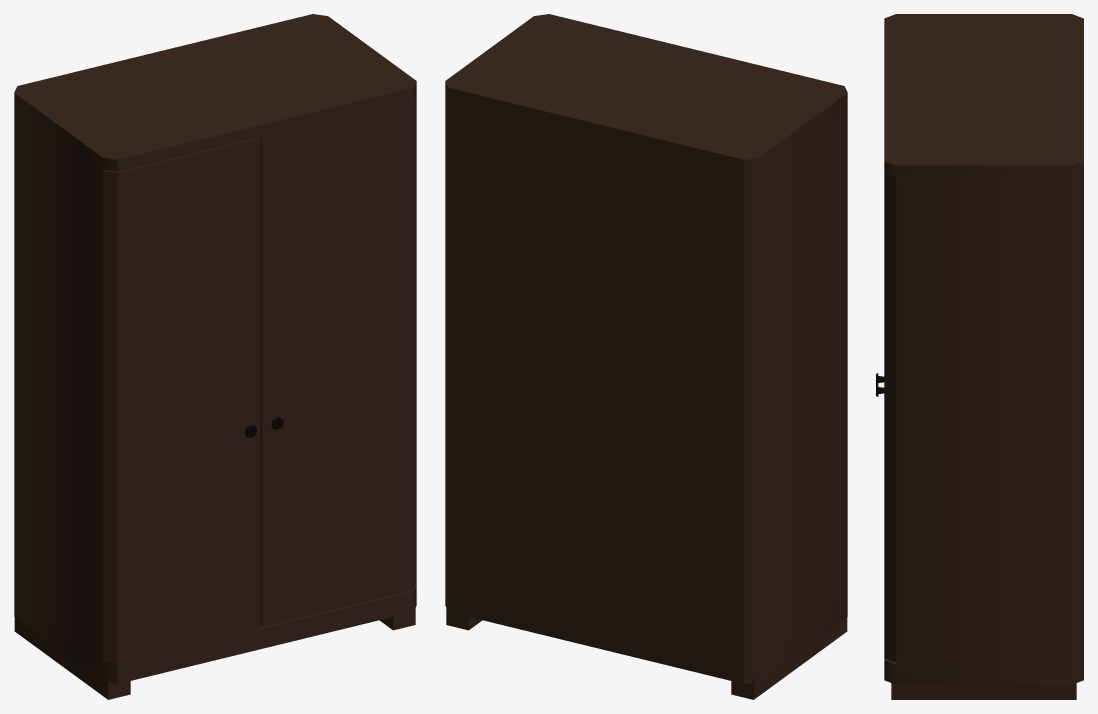
Rendered from Shkaf_2xDveri.FBX.
3 renders of one model, left to right at view 1: azimuth 30°, elevation 25°; view 2: azimuth 150°, elevation 25°; view 3: azimuth 270°, elevation 25°, orthographic.
Parts seen in each view (by area): view 1: Shkaf2_2xDveri_door_01 (×2), Shkaf2_2xDveri; view 2: Shkaf2_2xDveri; view 3: Shkaf2_2xDveri, Shkaf2_2xDveri_door_01.
Boxes of the visible parts, x1,y1,x2,y2 form: Shkaf2_2xDveri_door_01 (×2): (103, 95, 415, 663); Shkaf2_2xDveri: (14, 14, 416, 699); Shkaf2_2xDveri: (445, 14, 847, 699); Shkaf2_2xDveri: (884, 14, 1083, 699); Shkaf2_2xDveri_door_01: (876, 173, 896, 662).
Size of the model in its own units: 270 by 446 by 156.
